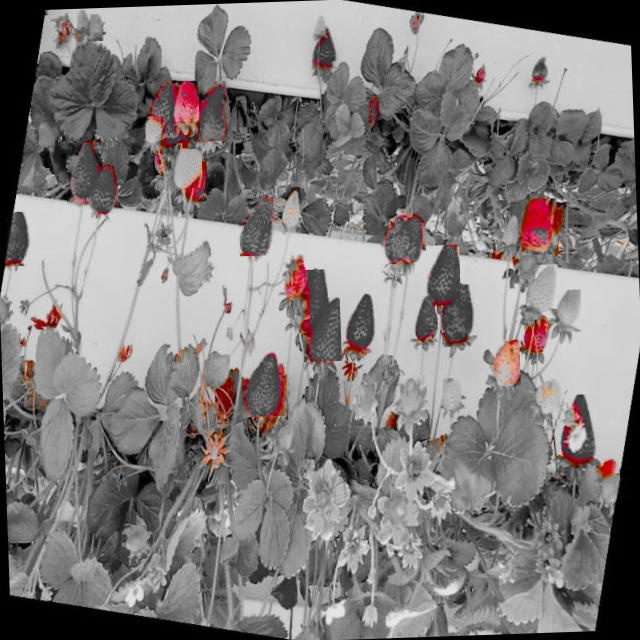ripe: (558, 393, 604, 468), (240, 346, 284, 416), (302, 296, 344, 362), (339, 292, 379, 354), (144, 82, 184, 144), (65, 142, 101, 206), (292, 269, 328, 333), (440, 284, 477, 346), (192, 80, 230, 140), (425, 243, 461, 304), (520, 198, 558, 255), (238, 196, 274, 255), (379, 212, 412, 264), (85, 164, 119, 213), (4, 211, 34, 266), (395, 217, 426, 266), (309, 25, 339, 75), (411, 294, 438, 346), (185, 160, 208, 201), (531, 54, 550, 82)
unripe: (168, 80, 199, 134), (524, 264, 558, 312), (531, 372, 565, 419), (489, 339, 521, 386), (167, 148, 202, 188), (398, 375, 428, 419), (279, 187, 307, 230), (556, 290, 582, 332), (498, 210, 524, 252), (121, 524, 147, 559), (384, 497, 413, 528), (352, 384, 376, 416), (442, 377, 462, 410), (519, 246, 538, 279), (602, 472, 620, 502), (274, 424, 294, 450), (142, 118, 160, 146), (86, 13, 103, 41), (38, 121, 56, 146), (76, 8, 90, 36), (0, 297, 10, 323)
